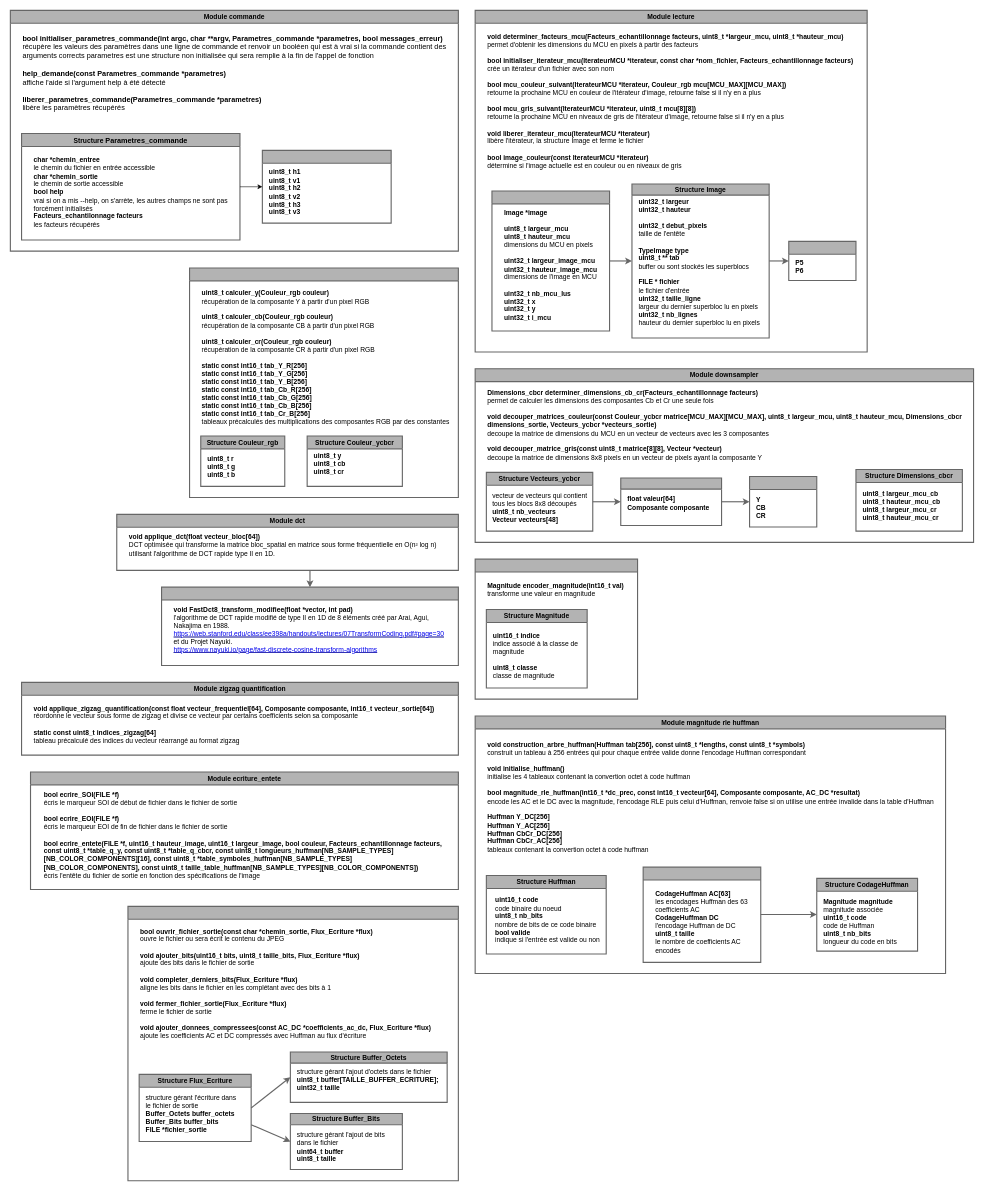
Some shapes in this 1000 by 1191 pixel diagram are drawn without their labels. Each missing label, with the box of its shape:
Enum Composante: (749, 476, 817, 527)
Enum TypeImage: (788, 241, 856, 281)
Module ecriture: (127, 906, 459, 1181)
Module fast-dct-8: (161, 586, 459, 666)
Module Magnitude: (474, 558, 638, 699)
Module rgb_to_ycbcr: (189, 267, 459, 498)
Structure AC_DC: (642, 866, 761, 963)
Structure Facteurs_echantillonnage: (262, 150, 391, 223)
Structure IterateurMCU: (491, 190, 610, 331)
Structure Vecteur: (620, 477, 722, 526)
